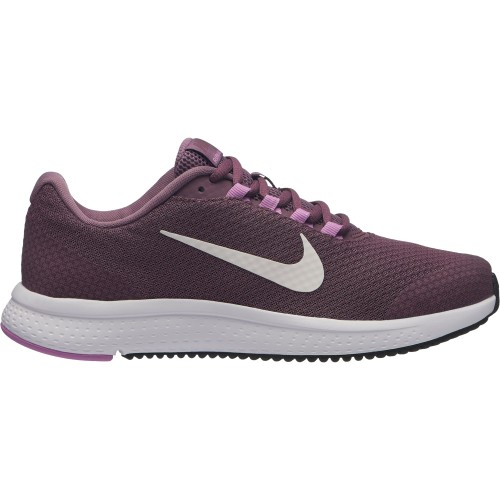nike: (157, 228, 327, 296)
